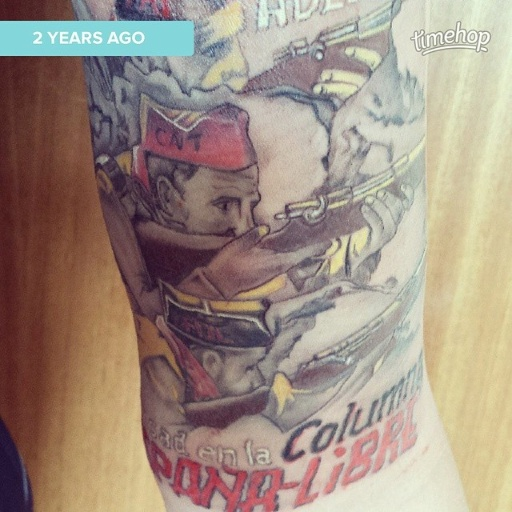hand: (197, 221, 332, 301), (261, 366, 357, 432), (347, 179, 416, 270), (312, 44, 384, 108)
